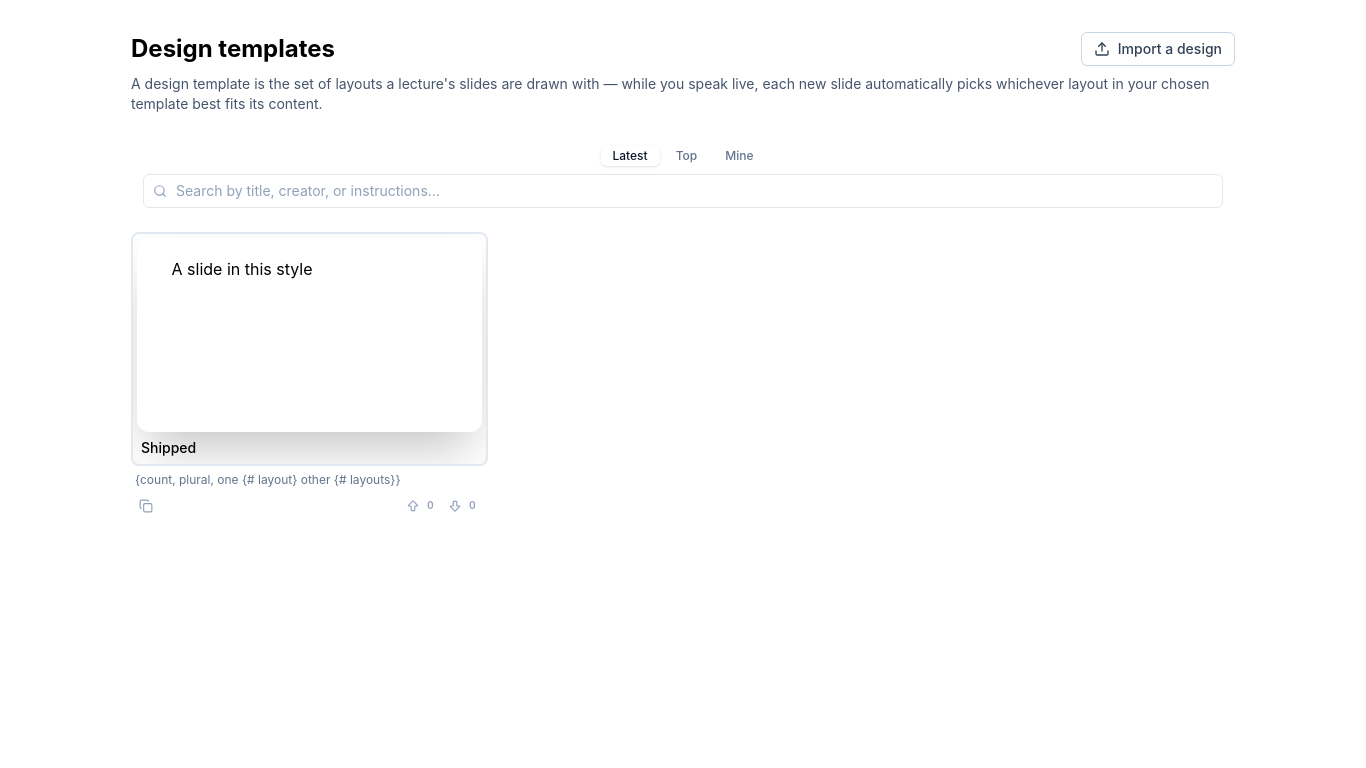
Test: DesignTemplatesPage import (TMPL-28) › offers Import a design in the header row, opening a dialog rather than inline options
Expected: the text "Shipped" is shown, top-left (141, 438), bottom-right (196, 458)
Expected: the button "Choose from Google Drive" is not shown
Step 1. Click the button "Import a design" → (1158, 49), box top-left (1081, 32), bottom-right (1235, 66)
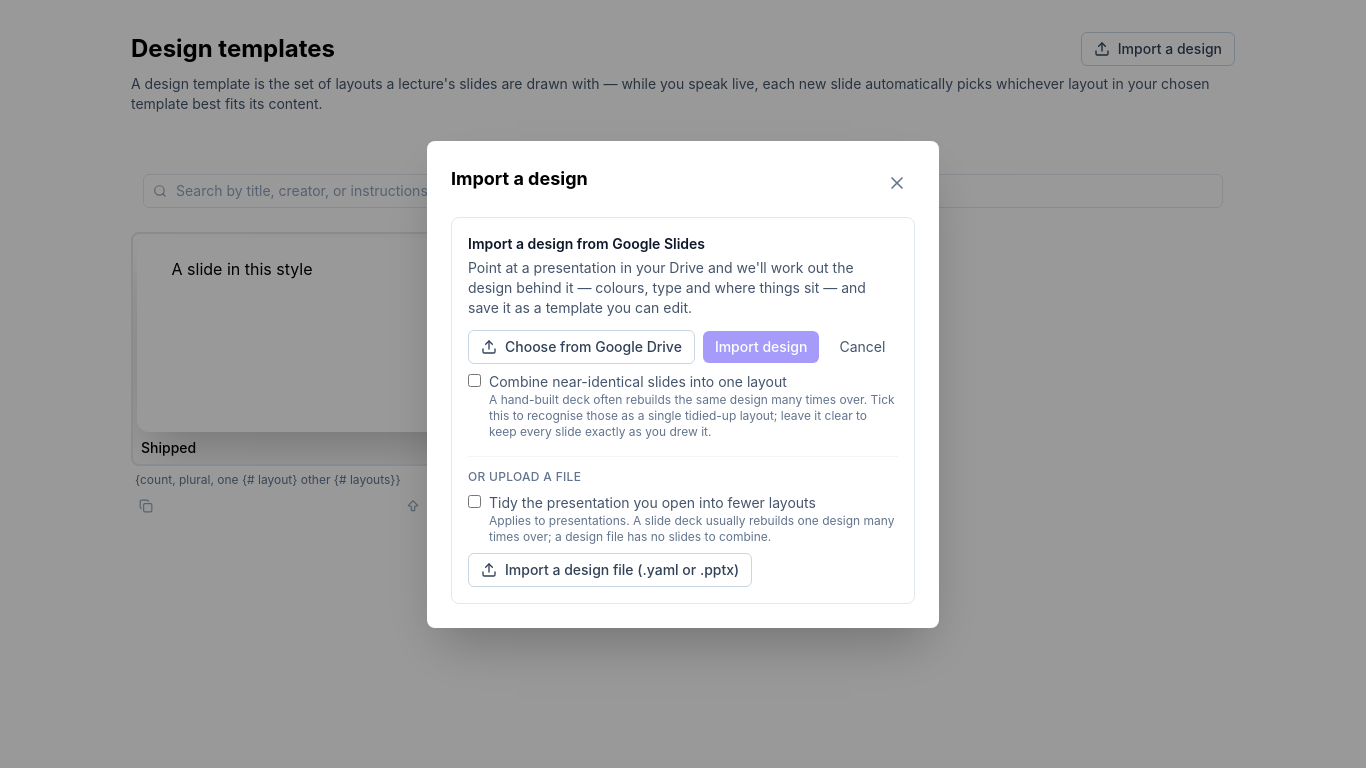
Expected: the dialog is shown, top-left (427, 140), bottom-right (939, 628)
Expected: the button "Choose from Google Drive" is shown, top-left (468, 330), bottom-right (695, 364)
